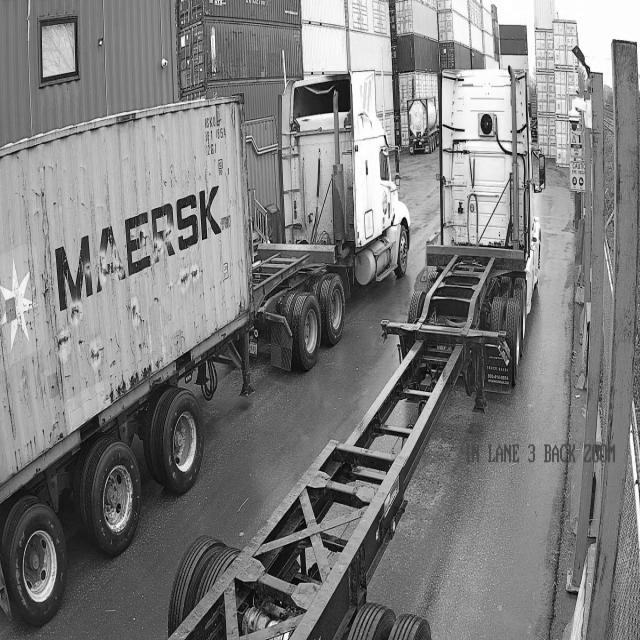container_company_logo: (4, 164, 234, 318)
truck_with_container: (0, 72, 410, 626)
truck_without_container: (168, 70, 544, 639)
